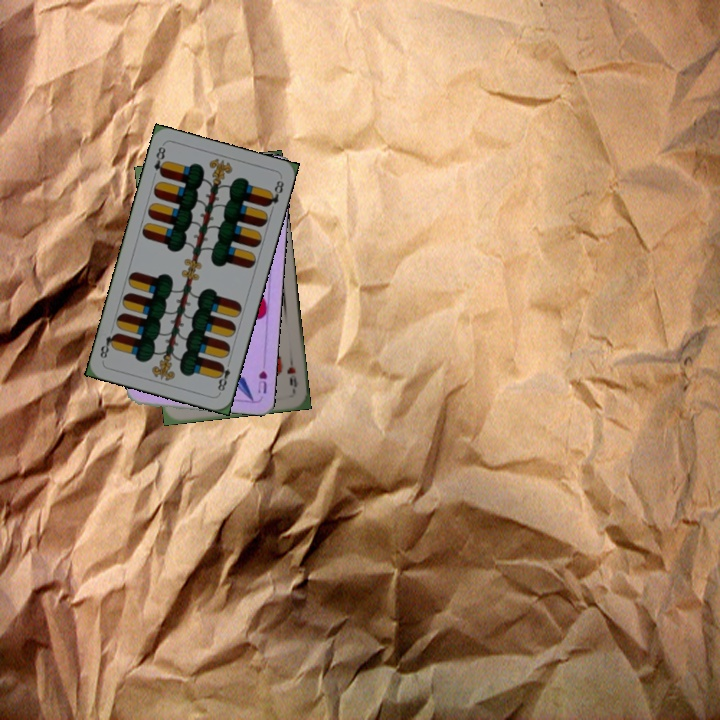E8: (213, 356, 233, 396), (150, 142, 169, 179)
H9: (283, 363, 301, 394)
HU: (254, 367, 269, 396)
